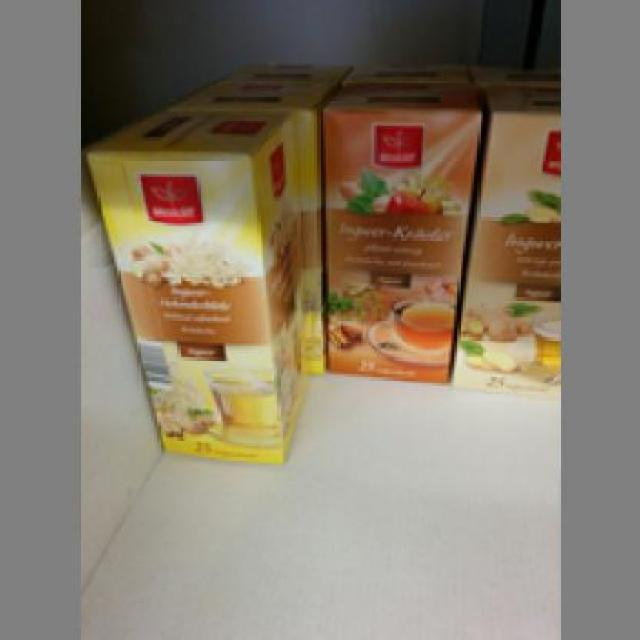Tea: (83, 108, 300, 464), (317, 86, 483, 380)
